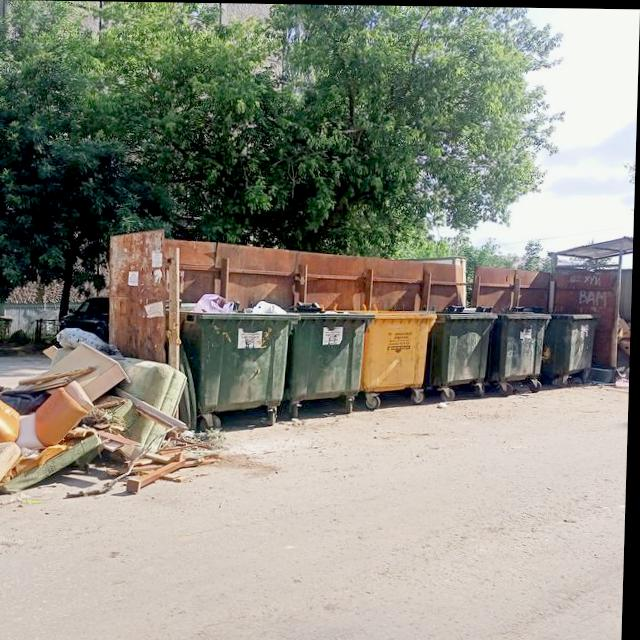Trash_Can_Empty: (289, 309, 378, 402), (355, 308, 438, 391), (429, 310, 500, 385), (493, 310, 554, 379), (547, 312, 599, 374)
Trash_Can_Full: (180, 291, 304, 413)
